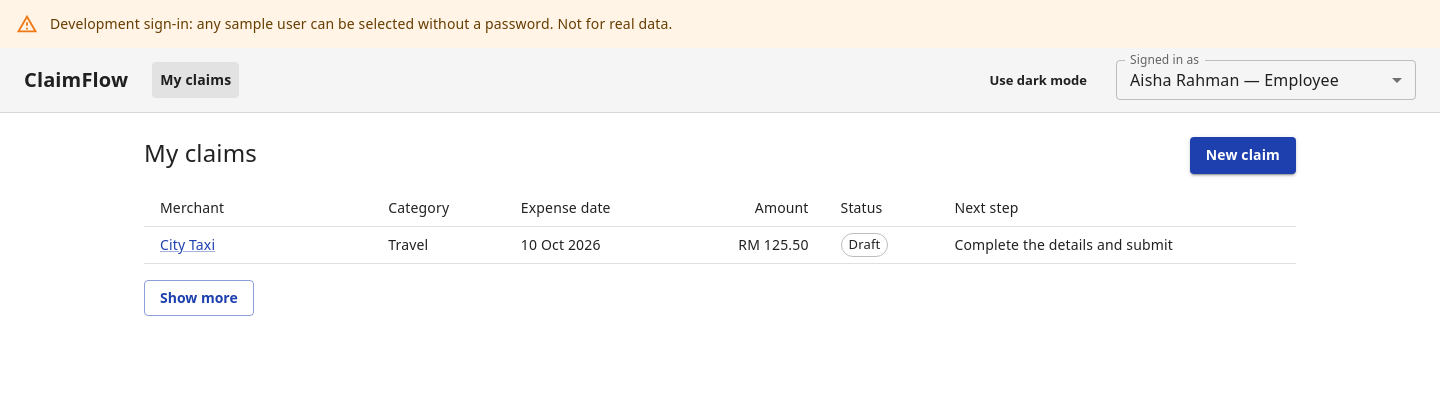
Test case: My claims › keeps the cursor-based Show more and reports a failed page without losing the list
Check: the table named "My claims" is shown, box [144, 190, 1296, 264]
Click the button "Show more". click: (199, 298)
box: [144, 280, 254, 316]
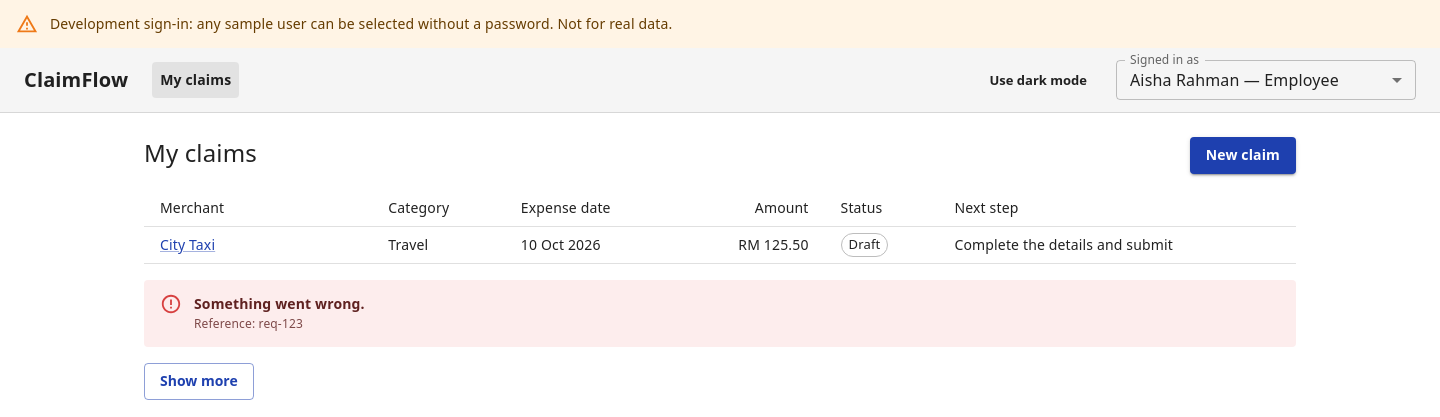
Check: the link "City Taxi" is shown, box [160, 234, 215, 254]
Check: the message shows "Something went wrong.", box [194, 294, 365, 312]
Click the button "Show more". click: (199, 382)
box: [144, 363, 254, 400]
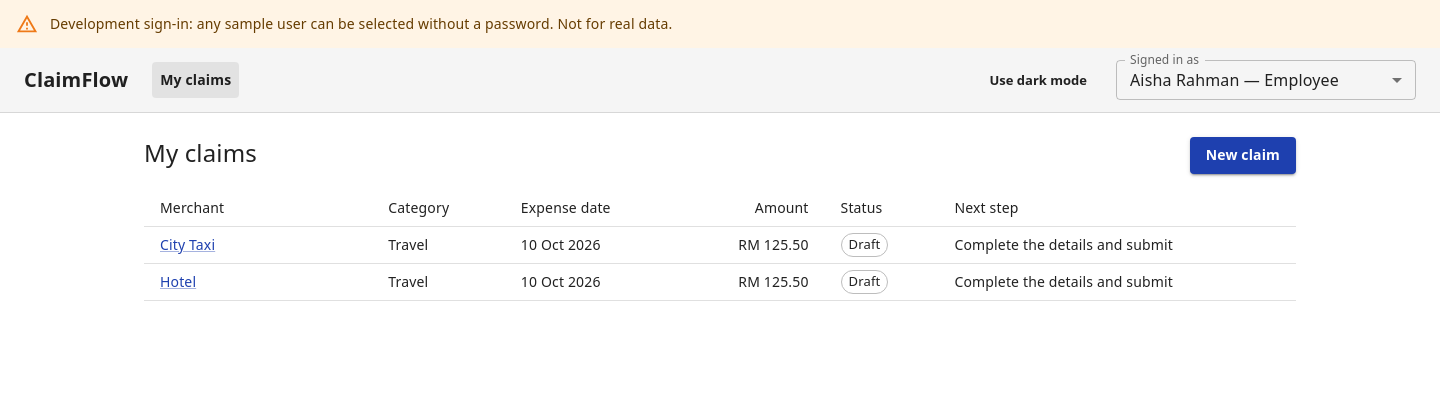
Check: the link "Hotel" is shown, box [160, 272, 196, 290]
Check: the message "Something went wrong. Reference: req-123" is gone
